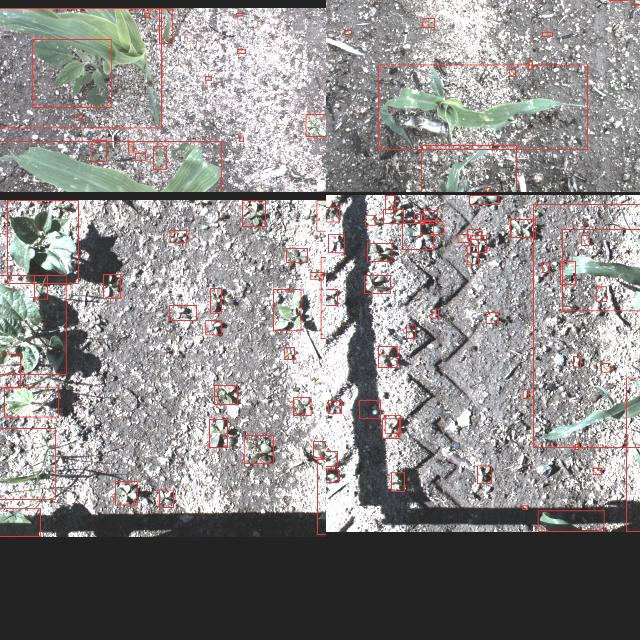crop: (533, 203, 640, 447), (0, 7, 162, 127), (378, 64, 588, 150), (0, 141, 221, 192), (0, 274, 65, 373), (562, 228, 640, 310), (8, 199, 78, 283), (421, 144, 516, 192), (5, 386, 59, 416), (538, 511, 604, 532), (0, 507, 41, 536), (160, 8, 172, 42)
weed: (33, 38, 111, 106), (0, 427, 55, 498), (274, 288, 300, 329), (402, 223, 434, 249), (244, 435, 272, 463), (0, 353, 20, 387), (242, 199, 266, 225), (115, 481, 137, 505), (209, 419, 227, 447), (365, 274, 391, 292), (366, 242, 392, 260), (510, 218, 536, 236), (215, 384, 238, 404), (306, 114, 326, 136), (103, 273, 121, 297), (170, 304, 197, 320), (378, 346, 398, 366), (560, 260, 576, 284), (360, 399, 380, 418), (382, 418, 400, 438), (34, 274, 48, 298), (293, 397, 311, 415), (328, 232, 344, 252), (286, 248, 308, 262), (420, 220, 442, 234), (158, 489, 174, 507), (210, 288, 222, 312), (471, 234, 487, 252), (92, 140, 106, 160), (386, 414, 400, 434), (383, 208, 403, 222), (469, 194, 499, 203), (154, 146, 166, 168), (392, 472, 404, 492), (467, 244, 479, 264), (206, 320, 222, 334), (477, 466, 491, 482), (313, 441, 326, 457), (170, 229, 187, 241), (326, 206, 339, 221), (385, 194, 395, 213), (328, 401, 342, 414), (420, 209, 438, 219), (326, 288, 337, 304), (326, 469, 338, 483), (326, 451, 337, 466), (406, 324, 416, 338), (467, 228, 481, 238), (597, 286, 607, 300), (284, 347, 294, 359), (486, 312, 498, 322), (423, 18, 435, 27), (365, 214, 375, 224), (458, 232, 468, 242), (600, 362, 610, 372), (135, 152, 145, 160), (414, 214, 424, 222), (542, 262, 550, 272), (581, 234, 589, 244), (310, 272, 322, 278), (128, 141, 134, 151), (432, 308, 438, 318), (523, 388, 529, 398), (574, 356, 580, 366), (592, 468, 602, 474), (510, 68, 516, 76), (542, 32, 552, 36), (76, 114, 82, 120), (204, 76, 212, 80), (237, 48, 245, 52), (528, 61, 532, 69), (344, 30, 352, 34), (484, 187, 489, 192), (144, 12, 150, 16), (238, 136, 244, 140), (522, 505, 528, 509), (575, 443, 579, 449), (634, 0, 640, 3), (237, 13, 243, 15)
